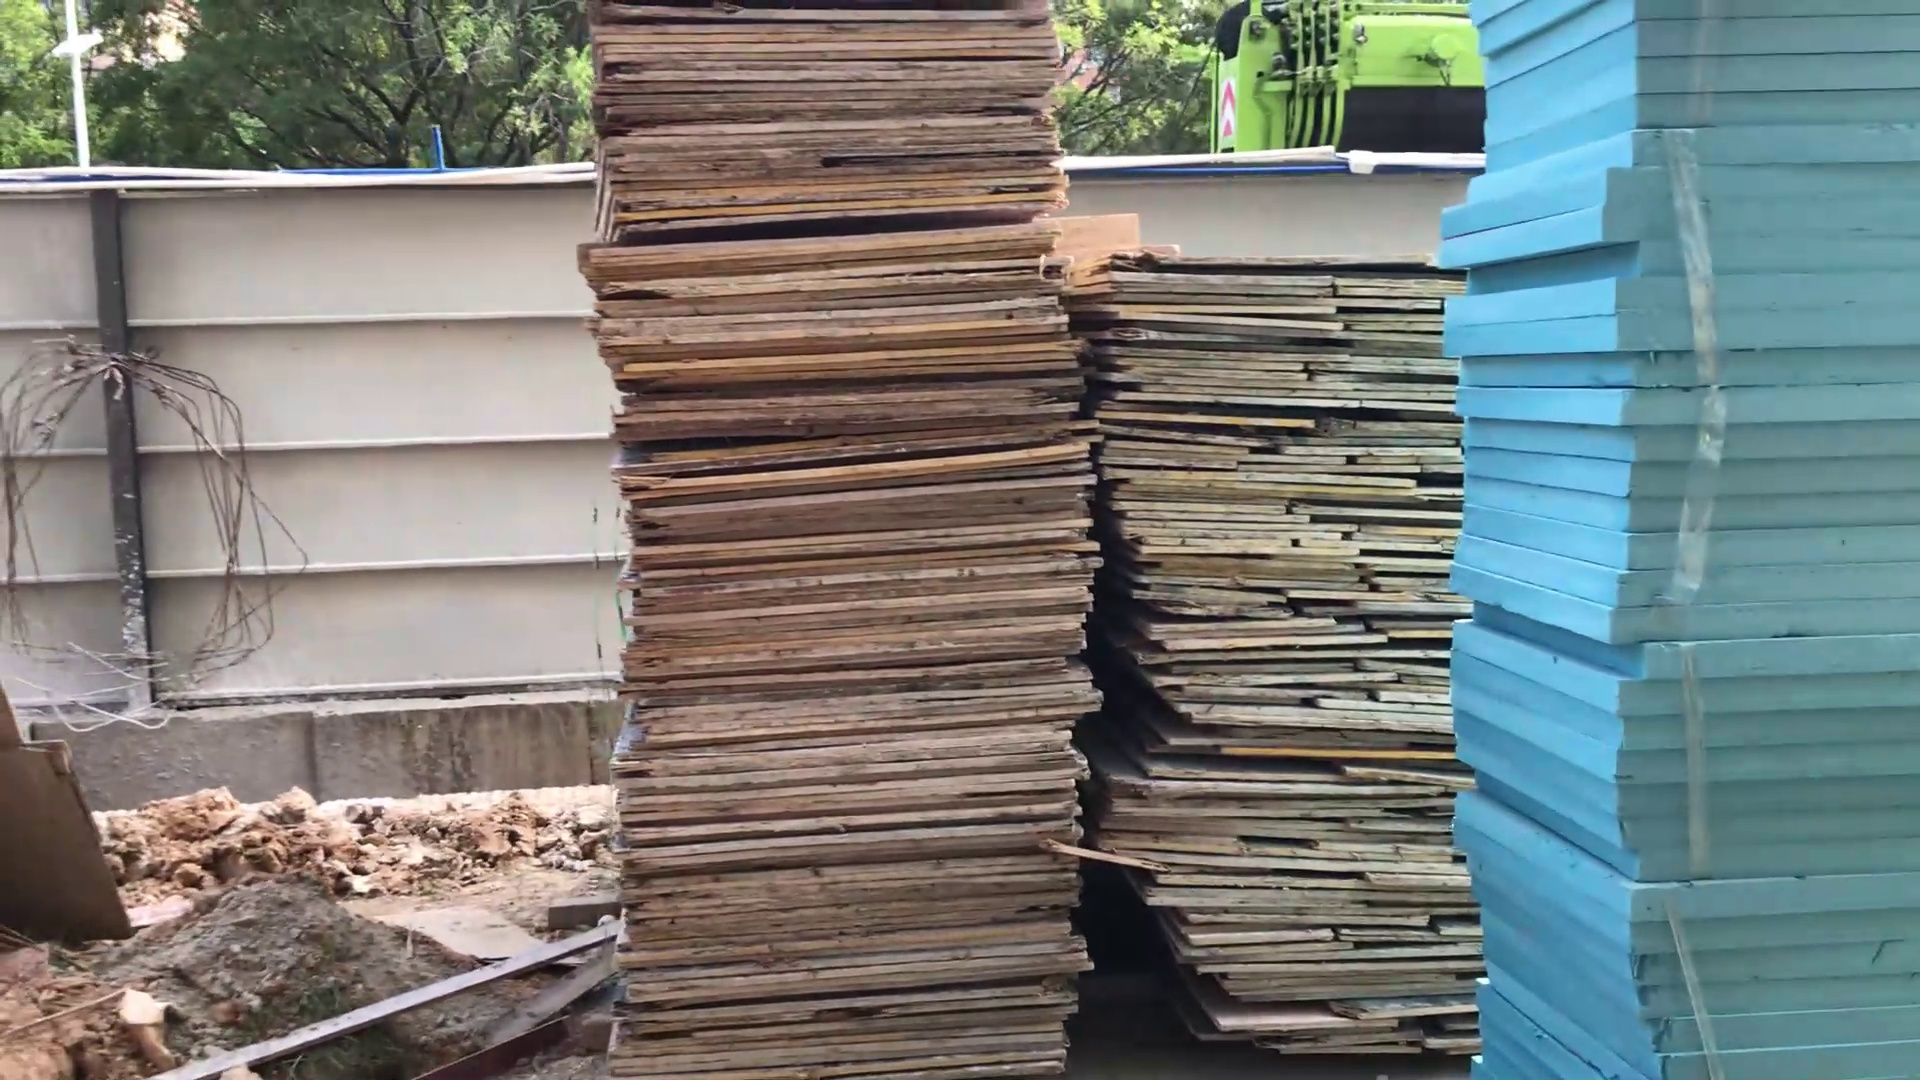board: (579, 1, 1095, 1080), (1085, 251, 1476, 1067)
